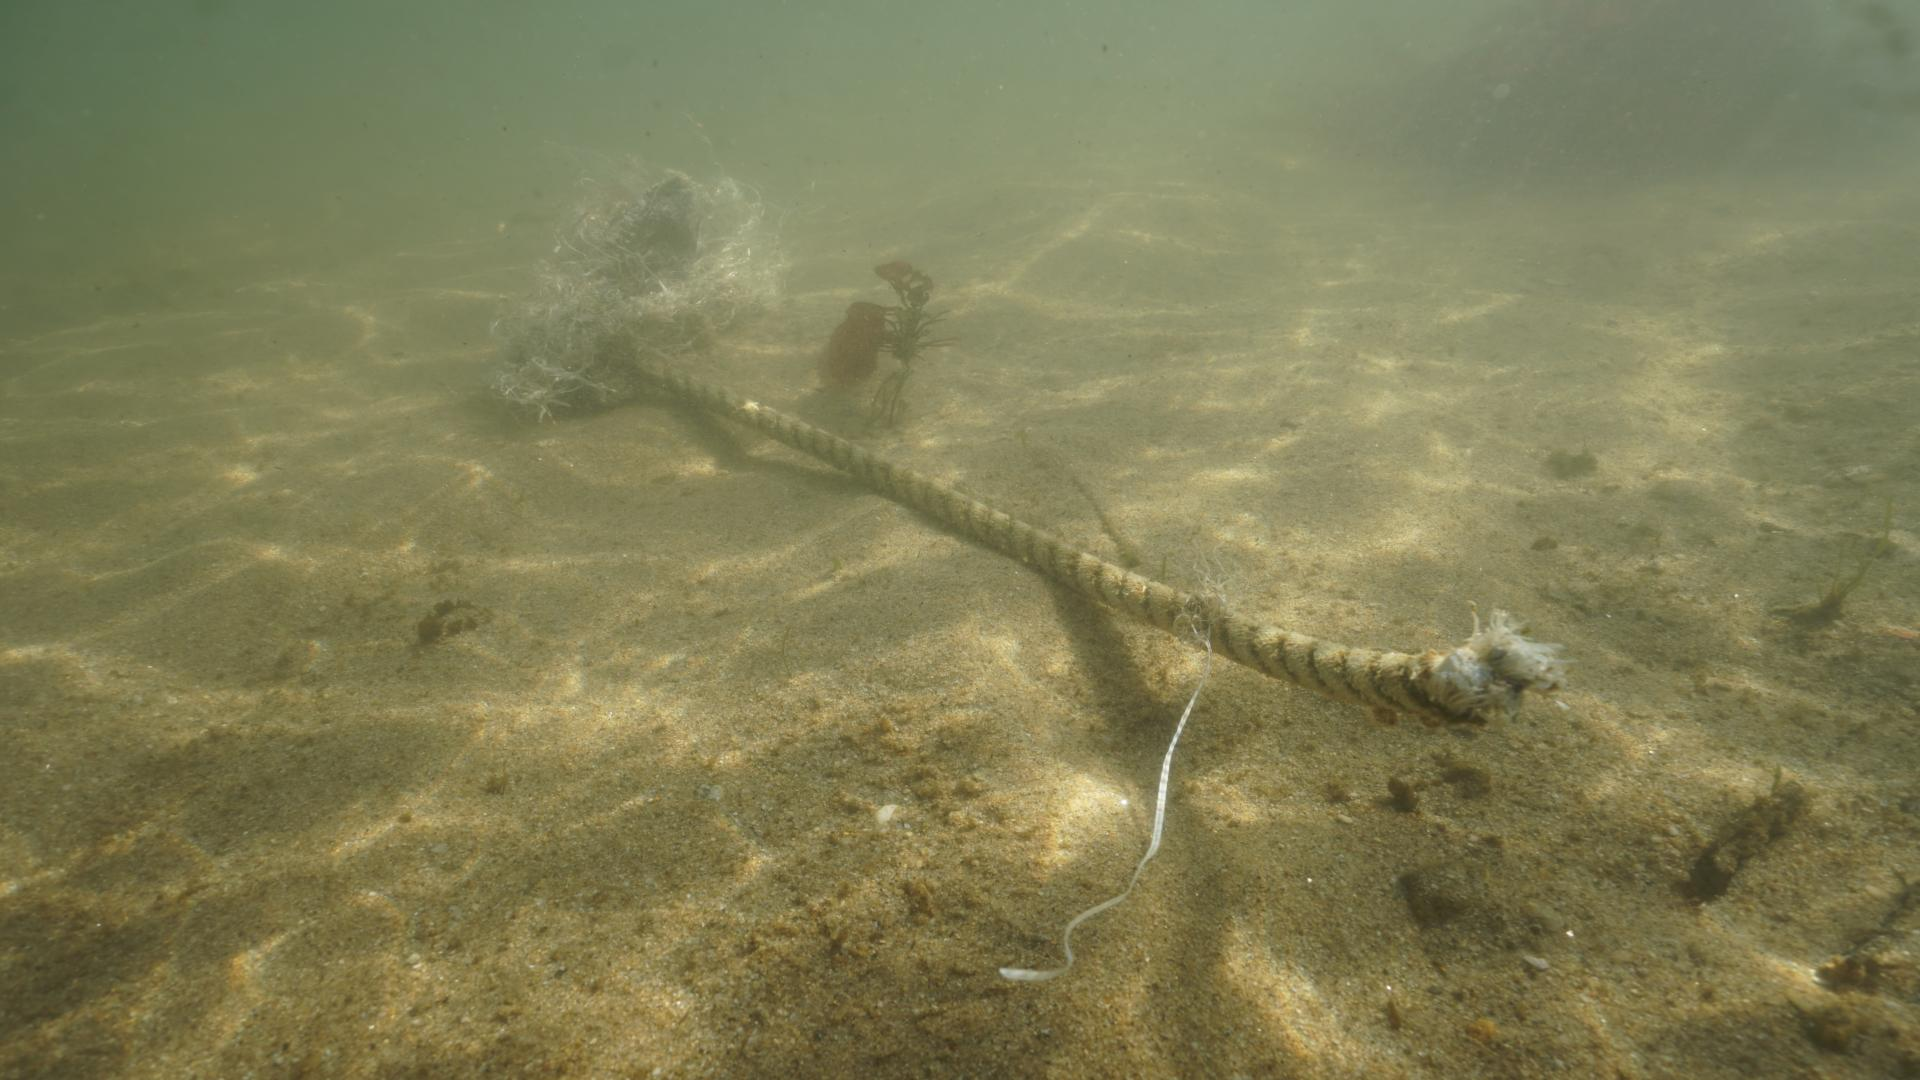rope: (592, 328, 1515, 717)
